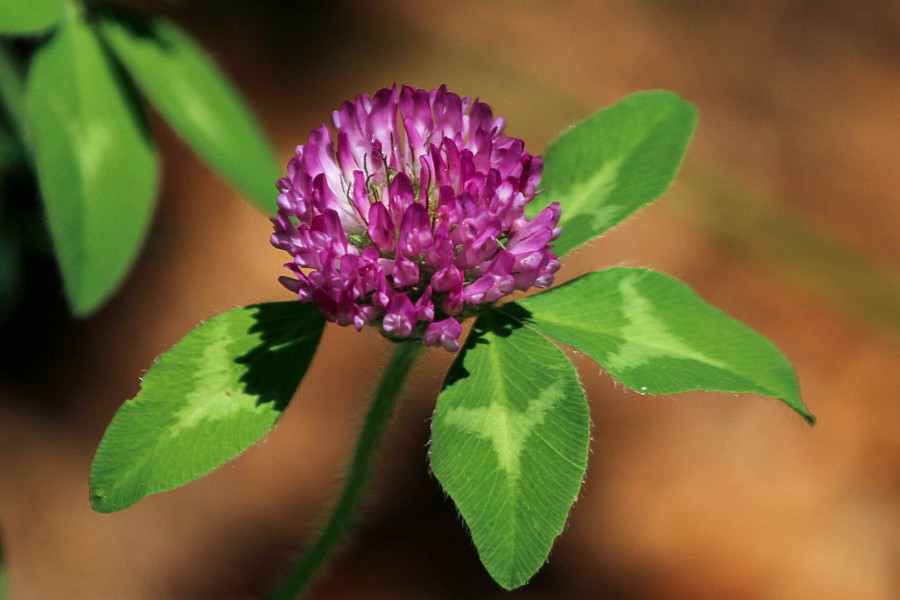clover: (126, 84, 788, 574)
